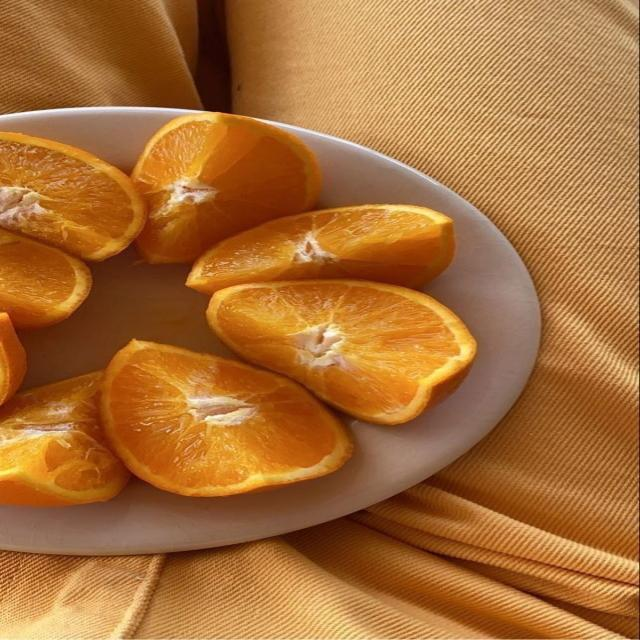orange: (102, 341, 351, 495), (208, 280, 475, 423), (133, 113, 320, 262), (188, 205, 453, 293), (0, 133, 144, 260), (0, 372, 129, 506), (0, 229, 91, 327), (0, 312, 25, 405)
